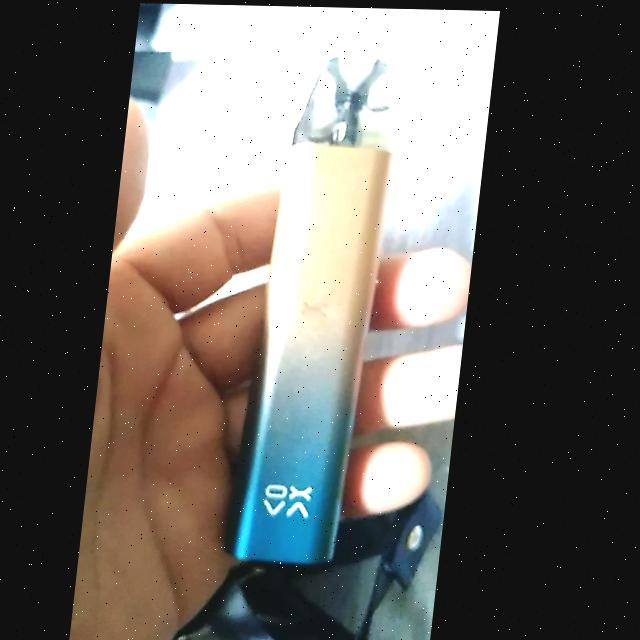vape: (237, 48, 405, 564)
